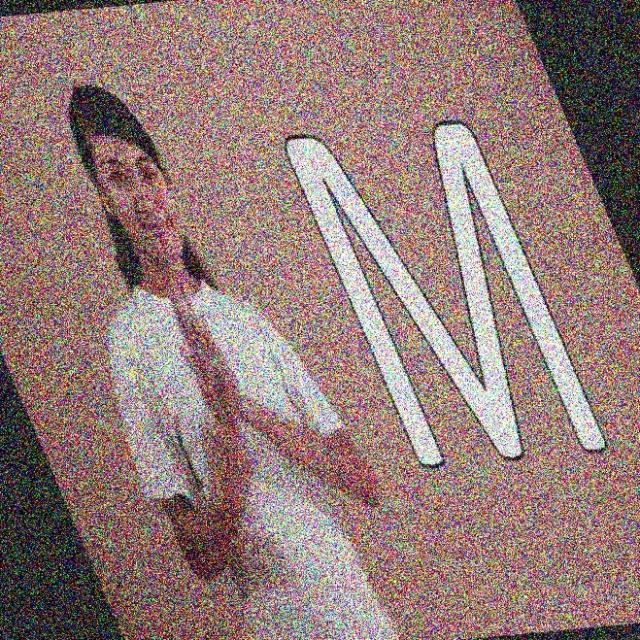M: (148, 273, 282, 456)
